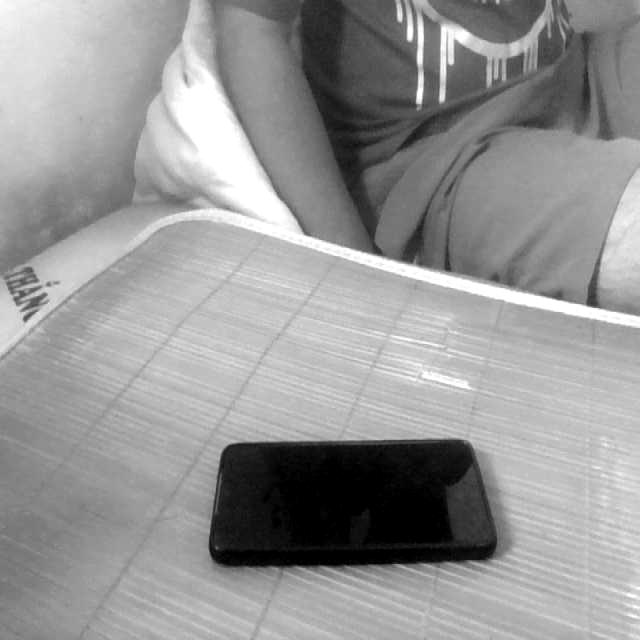phone: (195, 414, 516, 576)
